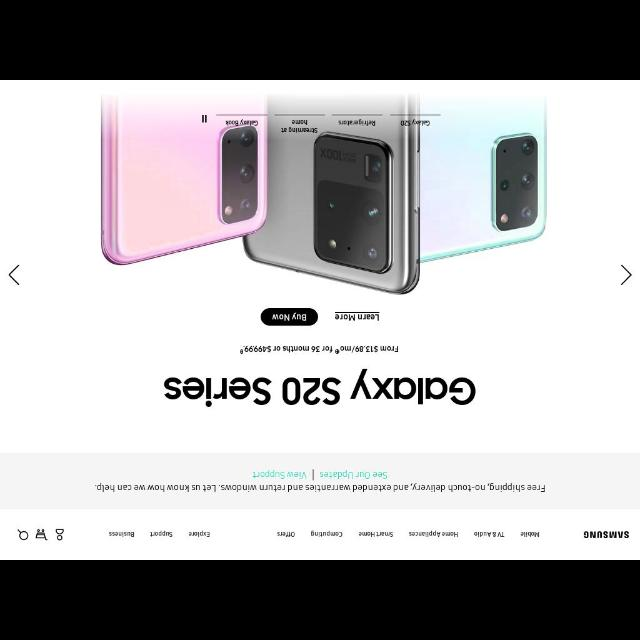icon: (8, 264, 22, 288), (619, 263, 633, 285), (16, 529, 29, 541), (55, 528, 63, 542), (37, 530, 47, 540)
image: (75, 94, 553, 302), (584, 530, 630, 542)
link: (320, 470, 386, 480), (252, 472, 306, 478)
text: (162, 373, 482, 409), (91, 482, 546, 496), (260, 308, 318, 326), (239, 346, 399, 352), (408, 530, 460, 538), (475, 528, 505, 540), (360, 531, 392, 539), (310, 530, 342, 538), (108, 530, 136, 538), (150, 530, 174, 538), (276, 531, 298, 539), (520, 531, 542, 537), (188, 532, 212, 536)
textbutton: (332, 312, 382, 322)
toolbar: (4, 515, 638, 557)
